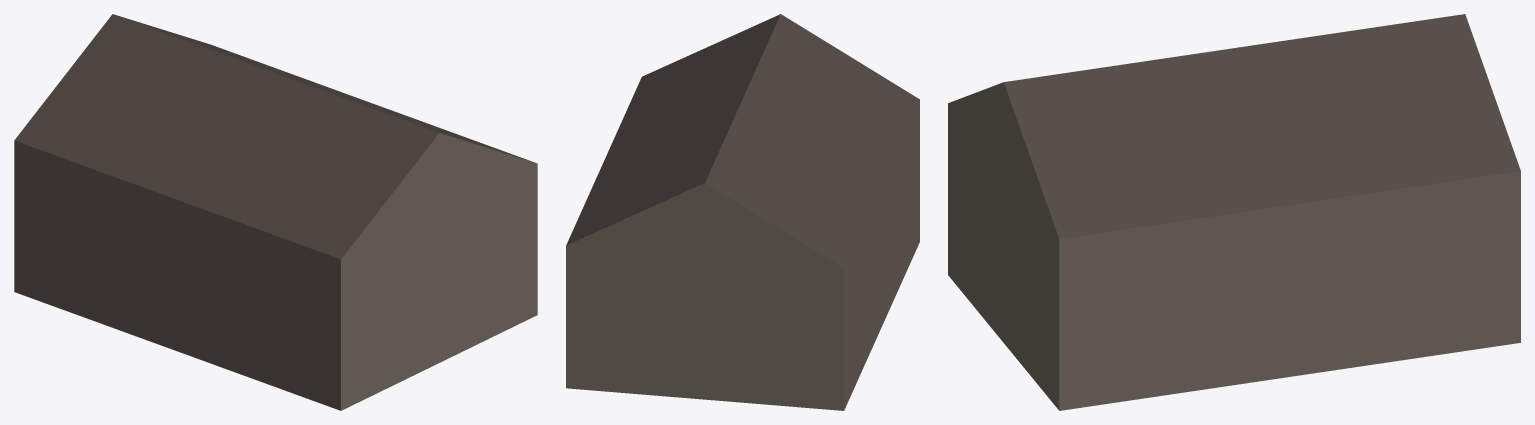
3 renders of one model, left to right at view 1: azimuth 30°, elevation 25°; view 2: azimuth 150°, elevation 25°; view 3: azimuth 270°, elevation 25°, orthographic. The views are drawn at different scales.
Visible parts, largest first — view 1: HP-w446937282; view 2: HP-w446937282; view 3: HP-w446937282.
Part boxes in pixels (<box>): HP-w446937282: <box>14,14,537,410</box>; HP-w446937282: <box>566,14,919,410</box>; HP-w446937282: <box>948,14,1520,410</box>.
Size of the model in its own units: 15.29 by 9.11 by 18.14.
